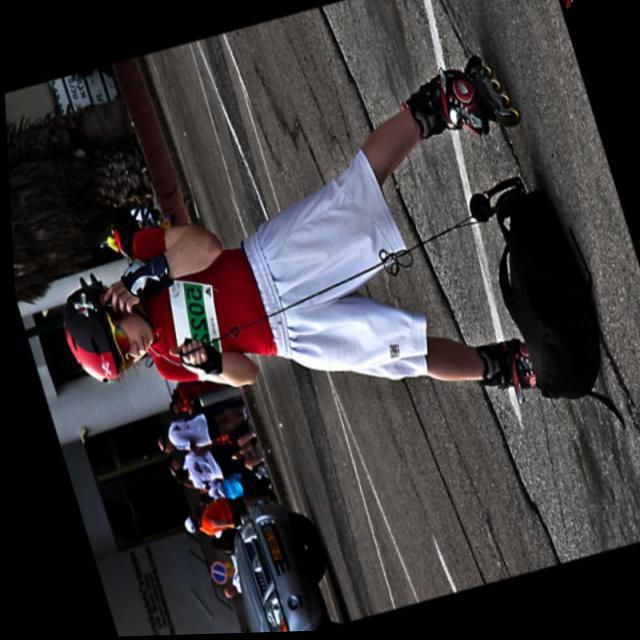dorsal: (146, 264, 232, 375)
